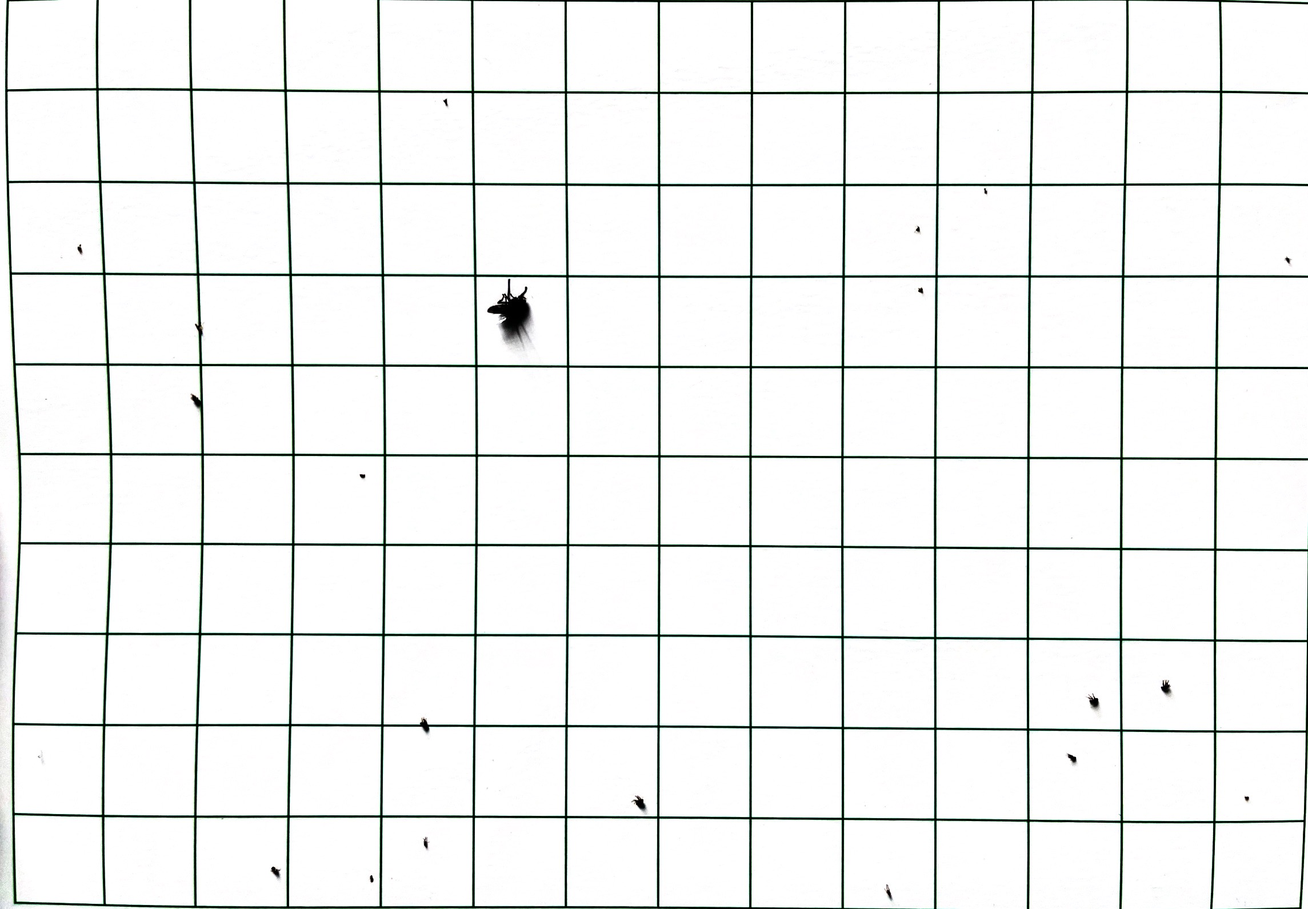fly: (485, 282, 539, 345)
test: (188, 393, 207, 411), (634, 796, 649, 813), (418, 719, 434, 734), (1158, 680, 1173, 695), (267, 867, 283, 880), (1088, 694, 1102, 708), (884, 886, 896, 901), (193, 323, 207, 335), (916, 285, 928, 298), (420, 834, 431, 848), (1066, 754, 1080, 765), (441, 96, 451, 108), (1242, 795, 1252, 805), (367, 875, 376, 886), (1283, 255, 1292, 266), (76, 244, 86, 253), (982, 186, 989, 197), (914, 225, 921, 235), (359, 472, 366, 480)
